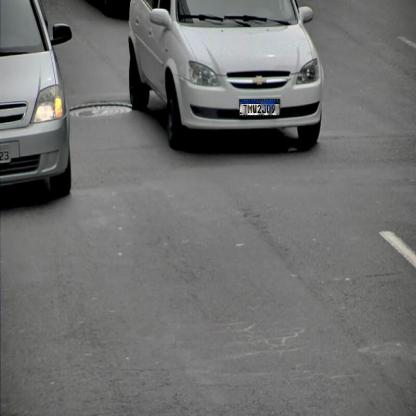PlacaM: (239, 99, 280, 116)
